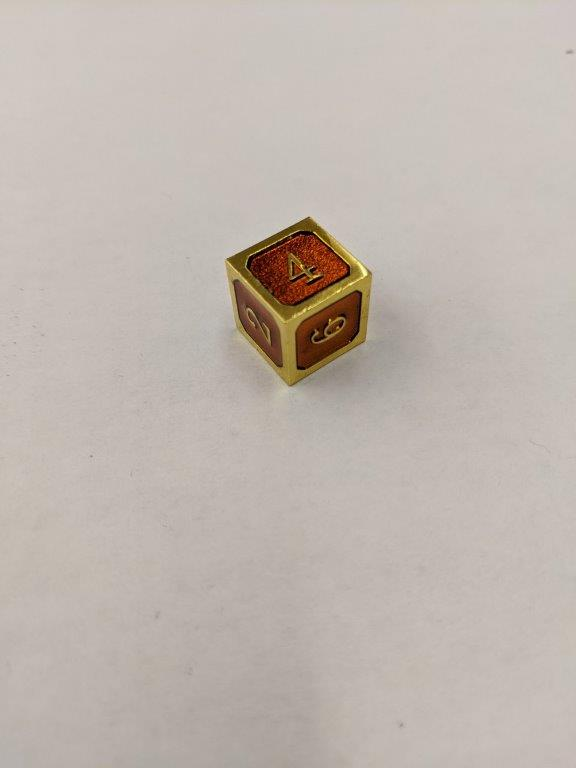d6-4: (223, 215, 370, 387)
